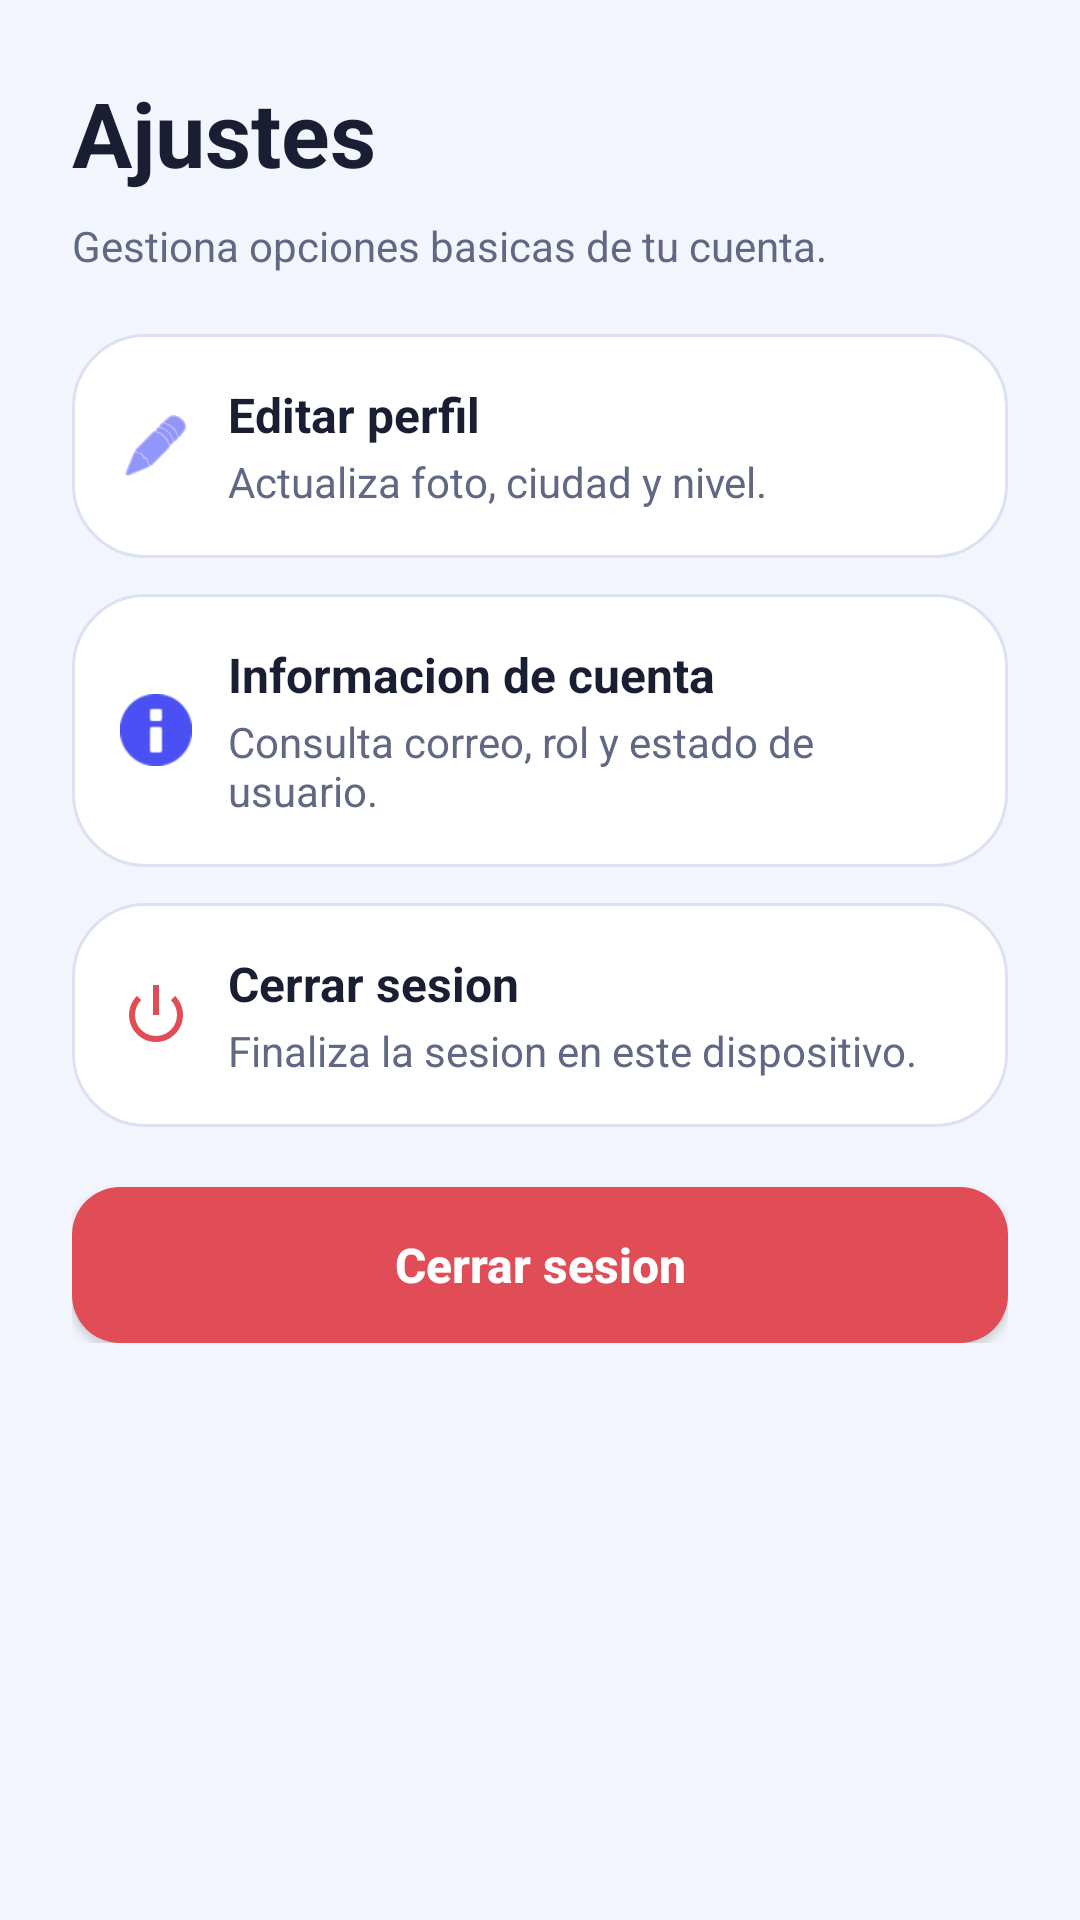

Named icons in this screenshot (1080 x 1920) and their bounding boxes, (x1,y1,x2,y2):
lock power off: (129,985,183,1042)
